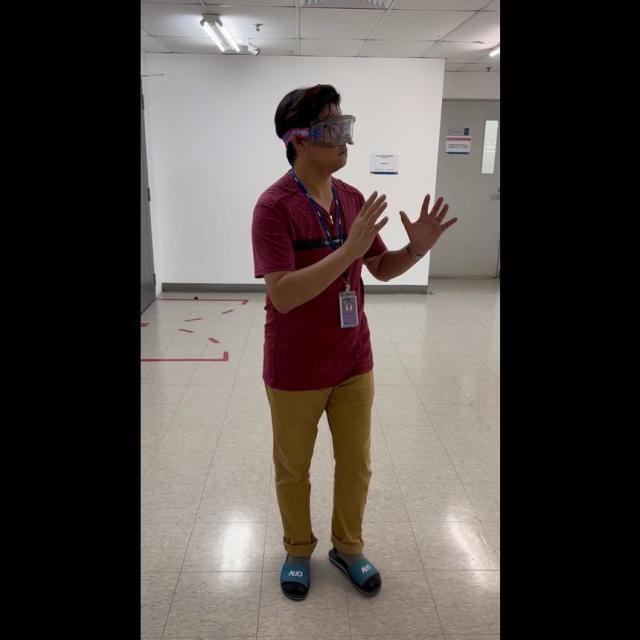bare_hand: (397, 188, 455, 254), (340, 184, 389, 254)
